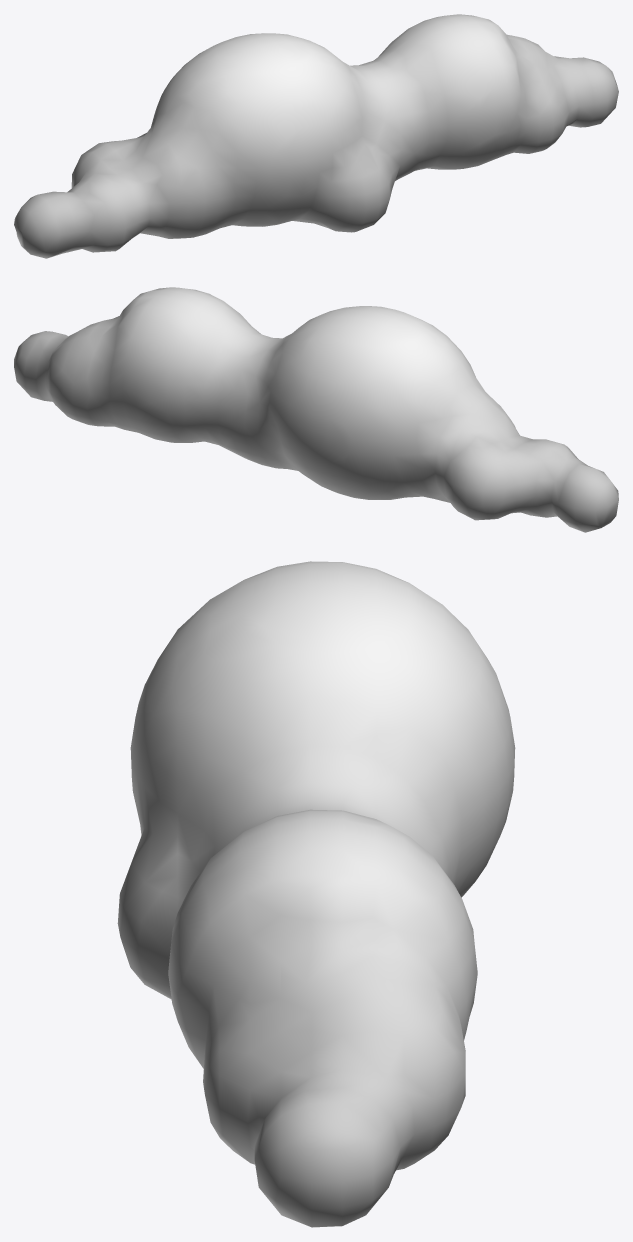
File: Cloud_01.fbx
3 renders of one model, top to bottom at view 1: azimuth 30°, elevation 25°; view 2: azimuth 150°, elevation 25°; view 3: azimuth 270°, elevation 25°, orthographic. The views are drawn at different scales.
Parts seen in each view (by area): view 1: Cloud_01; view 2: Cloud_01; view 3: Cloud_01.
Part boxes in pixels (box(x1,y1,x2,y2)): Cloud_01: box(14, 14, 618, 258); Cloud_01: box(14, 287, 618, 532); Cloud_01: box(117, 561, 515, 1227).
Size of the model in its own units: 298 by 85.11 by 86.
